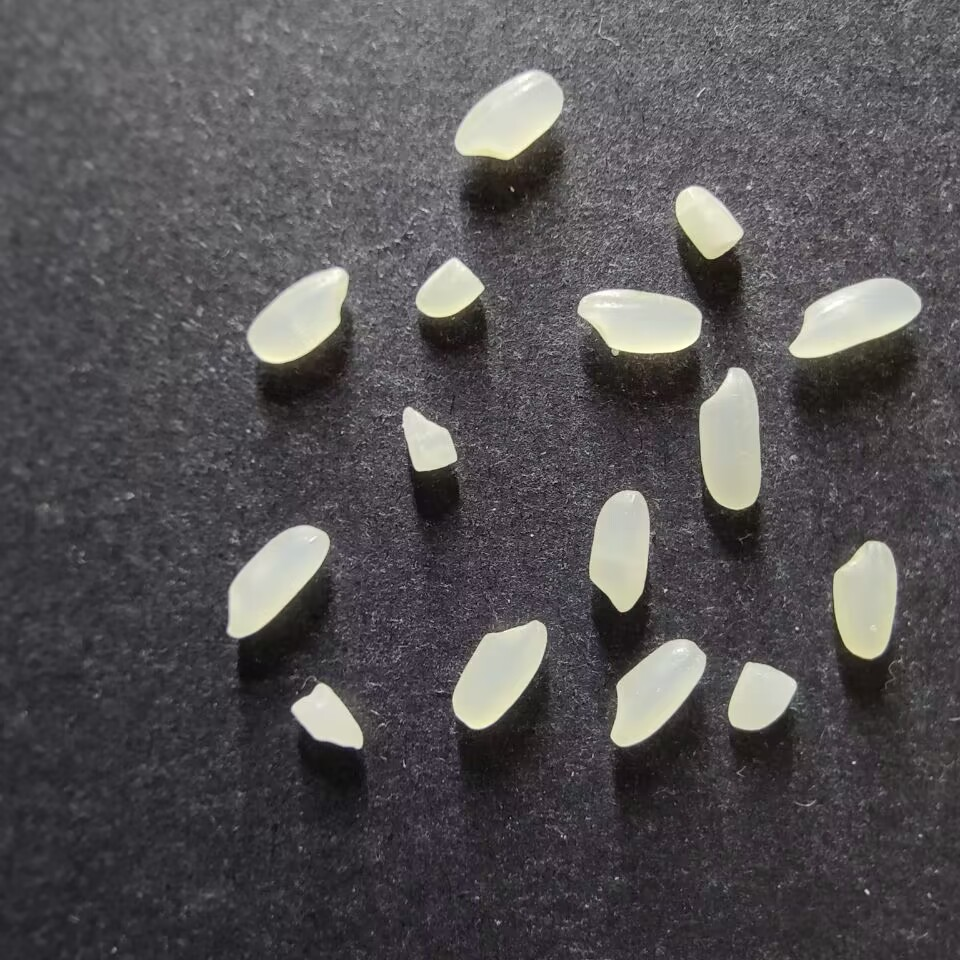broken: (289, 680, 365, 753), (673, 184, 744, 261), (725, 660, 797, 731), (414, 254, 484, 319), (401, 404, 459, 472)
rice: (224, 523, 330, 639), (607, 636, 708, 747), (449, 617, 548, 730), (787, 277, 922, 359), (452, 67, 564, 161), (244, 265, 349, 365), (696, 365, 763, 511), (575, 288, 703, 354), (830, 538, 898, 661), (586, 486, 650, 613)
